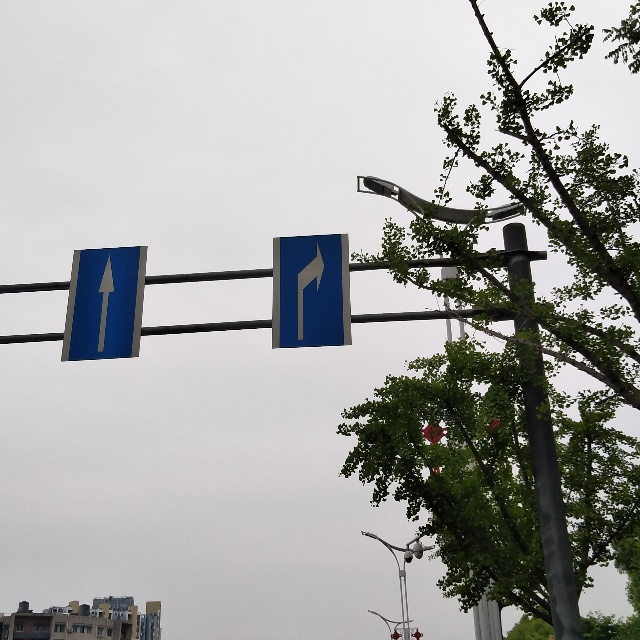right: (272, 235, 350, 351)
straight: (58, 247, 148, 362)
